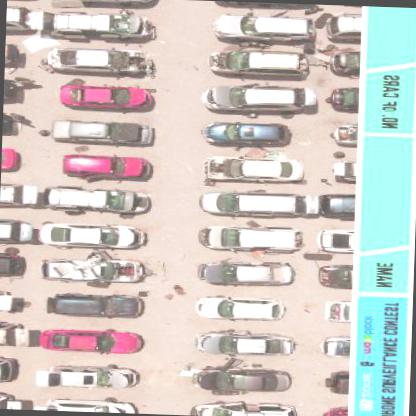car: (40, 250, 148, 284), (201, 186, 308, 218), (200, 82, 314, 112), (48, 46, 154, 78), (43, 186, 152, 216), (52, 116, 155, 146), (38, 220, 148, 248), (39, 326, 144, 354), (196, 223, 304, 250), (196, 365, 294, 393), (195, 328, 296, 355), (60, 82, 154, 111), (214, 12, 315, 38), (47, 291, 144, 318), (64, 152, 153, 181), (198, 259, 296, 285), (41, 363, 138, 389), (201, 120, 293, 145), (195, 296, 285, 320), (188, 397, 292, 415), (42, 394, 138, 412), (316, 230, 352, 251), (318, 265, 351, 286), (318, 195, 352, 215), (329, 85, 356, 109), (0, 253, 26, 277), (321, 336, 350, 355)
